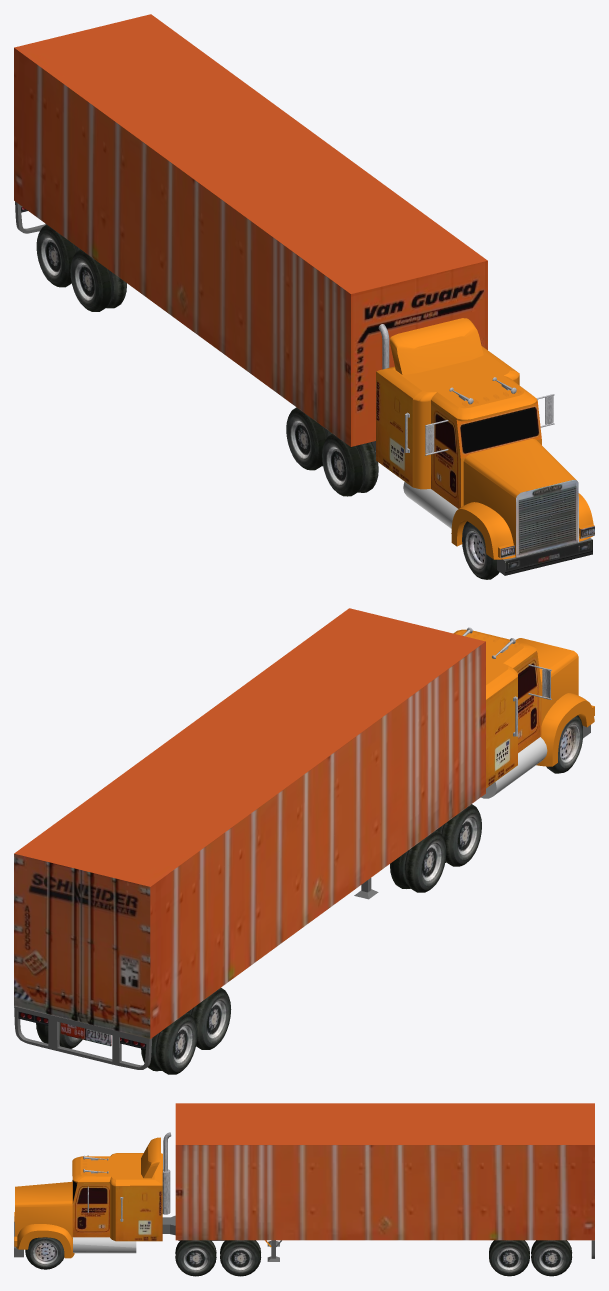
The model's file is truck.glb.
The picture shows the model from 3 angles, top to bottom: view 1: azimuth 30°, elevation 25°; view 2: azimuth 150°, elevation 25°; view 3: azimuth 270°, elevation 25°; orthographic projection. The views are drawn at different scales.
Visible parts, largest first — view 1: Object_2, Object_5, Object_23, Object_3, Object_17, Object_6, Object_11, Object_10, Object_12, Object_19, Object_7, Object_18 (+1 smaller); view 2: Object_2, Object_5, Object_4, Object_17, Object_23, Object_11, Object_14, Object_12, Object_21, Object_18, Object_19, Object_15; view 3: Object_2, Object_5, Object_23, Object_17, Object_24, Object_13, Object_18, Object_21, Object_14, Object_19, Object_20.
Boxes of the visible parts, <box> form: Object_2: <box>14,48,350,446</box>; Object_5: <box>14,14,487,293</box>; Object_23: <box>376,318,594,559</box>; Object_3: <box>351,260,487,446</box>; Object_17: <box>36,224,378,496</box>; Object_6: <box>516,479,578,557</box>; Object_11: <box>376,373,412,486</box>; Object_10: <box>456,400,541,458</box>; Object_12: <box>431,401,460,508</box>; Object_19: <box>378,324,554,455</box>; Object_7: <box>505,539,592,575</box>; Object_18: <box>462,521,571,579</box>; Object_2: <box>150,641,485,1038</box>; Object_5: <box>14,608,485,886</box>; Object_4: <box>14,853,150,1038</box>; Object_17: <box>36,804,481,1074</box>; Object_23: <box>453,629,594,766</box>; Object_11: <box>486,678,517,788</box>; Object_14: <box>14,725,590,1069</box>; Object_12: <box>514,652,541,752</box>; Object_21: <box>481,737,547,798</box>; Object_18: <box>546,715,582,773</box>; Object_19: <box>462,627,551,736</box>; Object_15: <box>60,1022,111,1046</box>; Object_2: <box>175,1145,594,1240</box>; Object_5: <box>175,1103,594,1144</box>; Object_23: <box>14,1137,162,1258</box>; Object_17: <box>175,1240,572,1276</box>; Object_24: <box>115,1186,271,1247</box>; Object_13: <box>72,1183,109,1237</box>; Object_18: <box>25,1237,64,1269</box>; Object_21: <box>73,1237,136,1253</box>; Object_14: <box>14,1215,594,1261</box>; Object_19: <box>83,1132,171,1221</box>; Object_20: <box>162,1169,170,1214</box>.
Bounding box in the file's own units: 88.7 × 132 × 523.
Materials: 22 (19 with a texture image).
